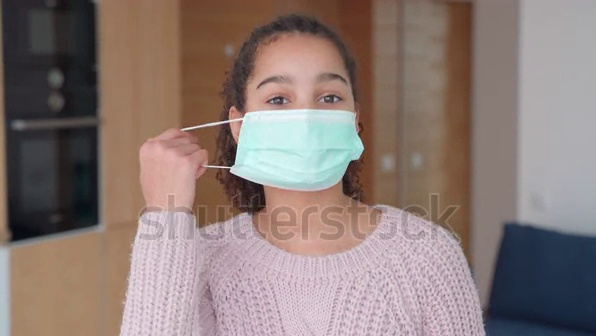Mask: (195, 108, 383, 200)
